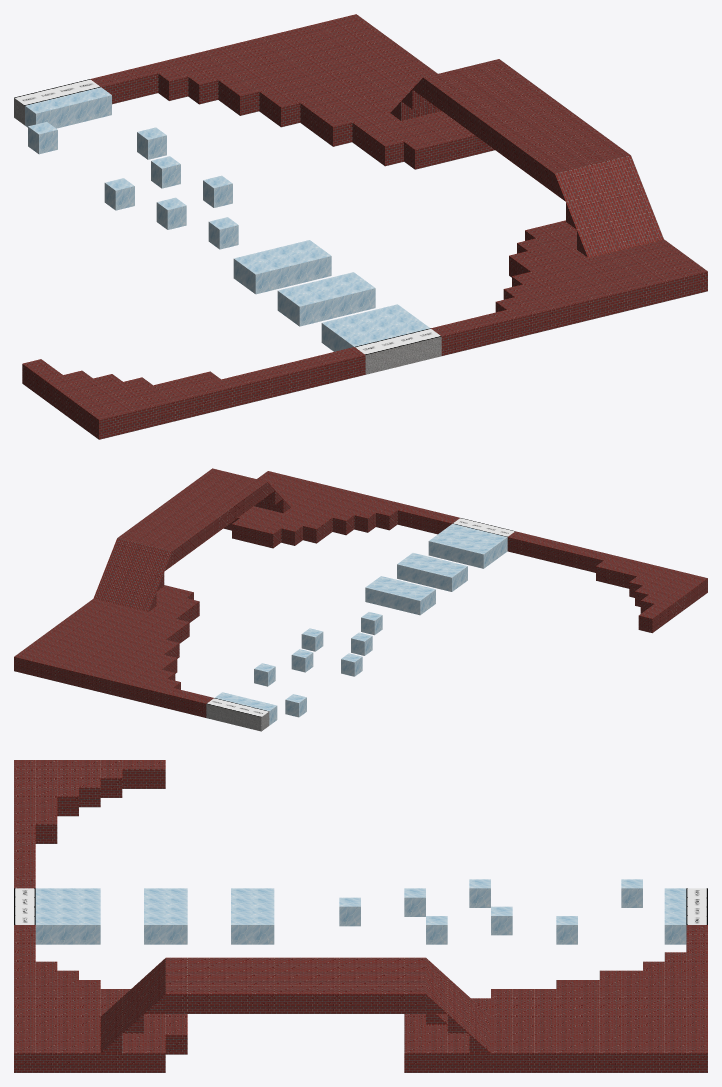
File: ice_challenge_1.gltf
3 views of the same model, one above another, from view 1: azimuth 30°, elevation 25°; view 2: azimuth 150°, elevation 25°; view 3: azimuth 270°, elevation 25° (orthographic). The views are drawn at different scales.
Parts seen in each view (by area): view 1: map; view 2: map; view 3: map.
Part boxes in pixels (x1,y1,x2,y2): map: (14,14,707,439); map: (14,468,707,731); map: (14,760,707,1072).
Bounding box in the file's own units: 64 × 8 × 64.
Materials: 5 (5 with a texture image).
